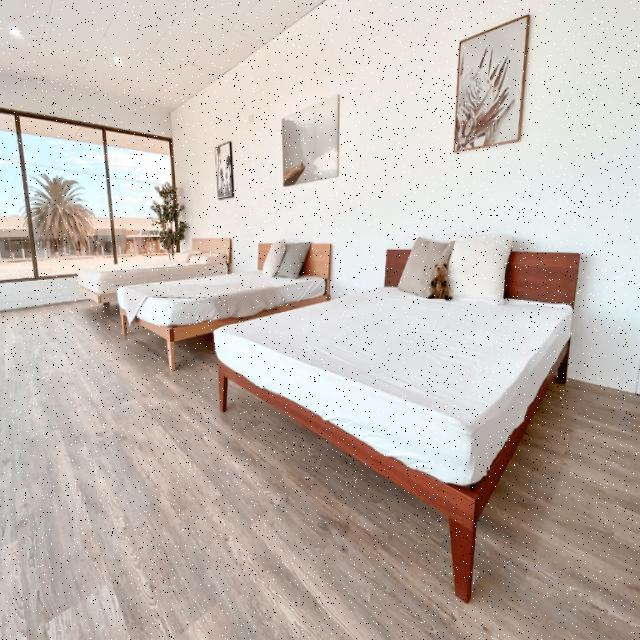bed: (221, 246, 588, 454), (117, 242, 320, 317), (76, 234, 220, 287)
